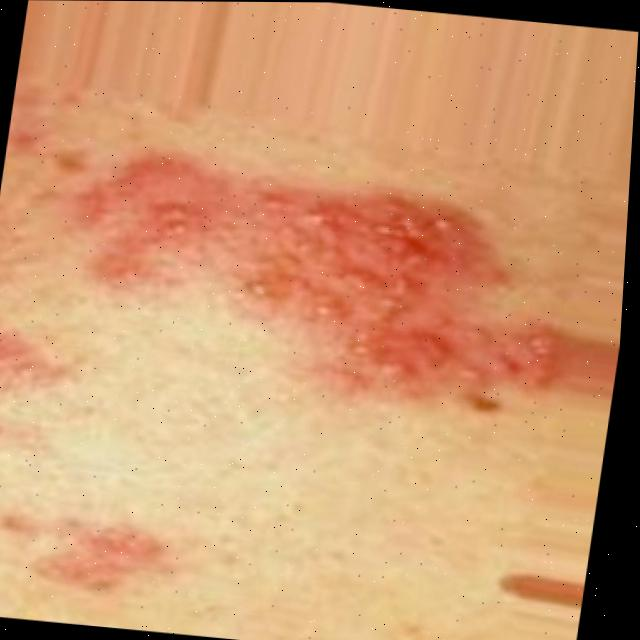Shingles: (51, 141, 596, 419), (0, 496, 173, 597), (0, 310, 77, 489)
